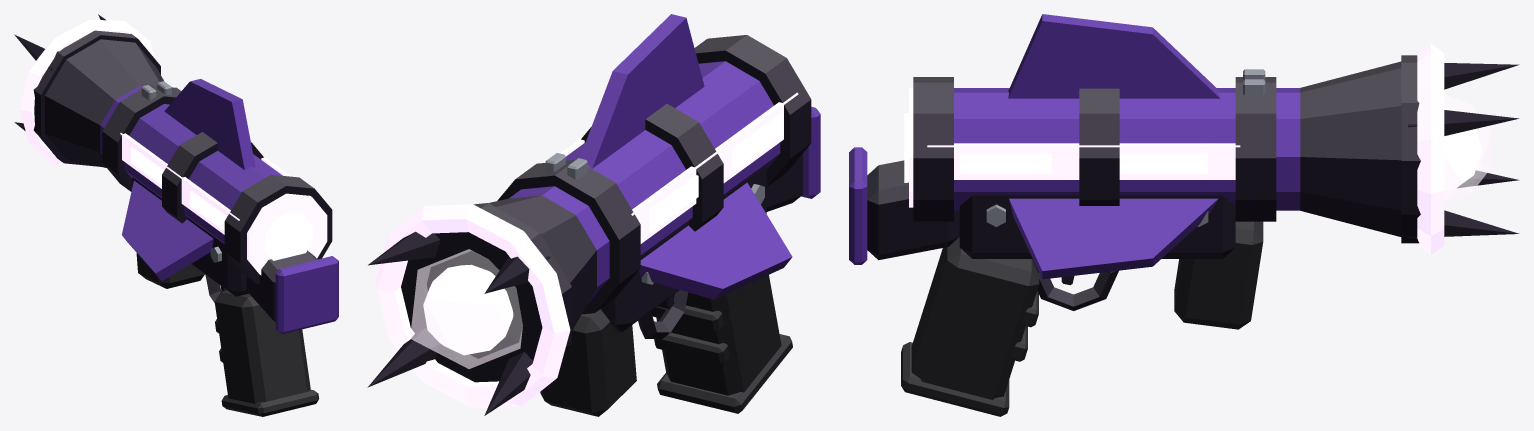
Rendered from Ion.glb.
The picture shows the model from 3 angles, left to right: view 1: azimuth 30°, elevation 25°; view 2: azimuth 150°, elevation 25°; view 3: azimuth 270°, elevation 25°; orthographic projection. The views are drawn at different scales.
Visible parts, largest first — view 1: Body, Halo_Glow, Accent_Glow; view 2: Body, Halo_Glow, Accent_Glow; view 3: Body, Halo_Glow, Accent_Glow.
Part boxes in pixels (x1=…): Body: x1=14, y1=14, x2=338, y2=416; Halo_Glow: x1=20, y1=19, x2=327, y2=275; Accent_Glow: x1=130, y1=147, x2=312, y2=260; Body: x1=367, y1=14, x2=820, y2=416; Halo_Glow: x1=375, y1=92, x2=798, y2=408; Accent_Glow: x1=423, y1=113, x2=783, y2=355; Body: x1=849, y1=14, x2=1519, y2=416; Halo_Glow: x1=909, y1=43, x2=1491, y2=254; Accent_Glow: x1=904, y1=107, x2=1482, y2=191.
Bounding box in the file's own units: 1.35 × 2.29 × 3.64.
